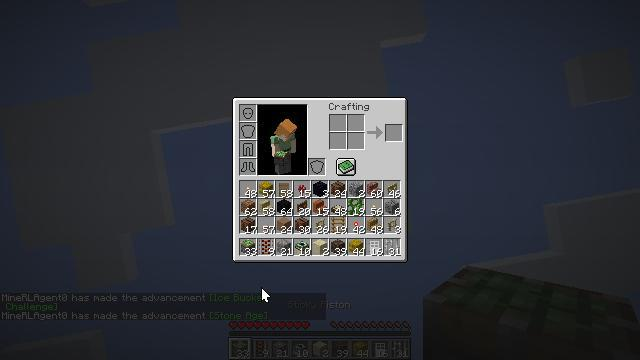cursor: (261, 287, 271, 303)
